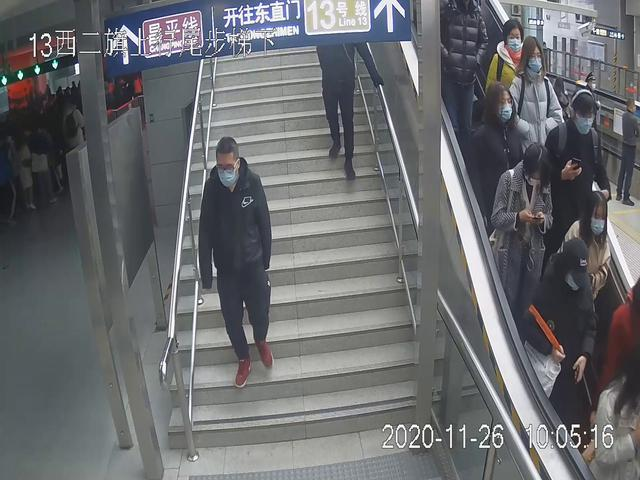person: (198, 130, 282, 390), (516, 237, 600, 459), (541, 80, 615, 259), (308, 24, 391, 181), (492, 143, 557, 324), (505, 34, 565, 212)
